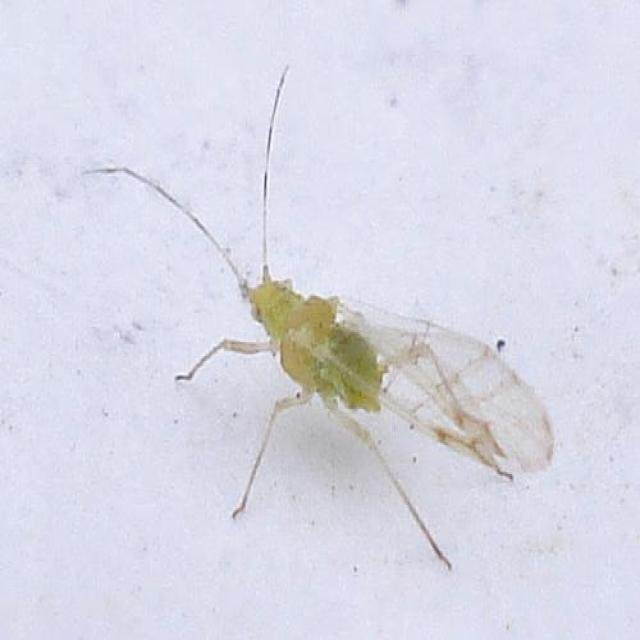Aphids: (72, 90, 556, 585)
